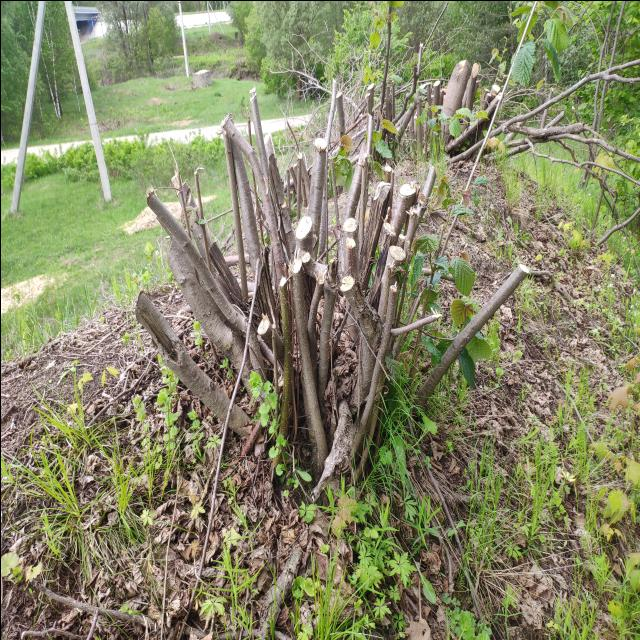restos de madeira: (409, 260, 539, 410), (347, 242, 408, 460), (197, 262, 275, 416), (182, 388, 230, 632), (417, 448, 475, 604), (288, 255, 326, 480), (223, 118, 265, 299), (24, 579, 152, 633), (250, 540, 306, 639), (67, 303, 149, 357), (328, 88, 388, 158), (136, 292, 186, 358), (274, 96, 320, 166), (88, 368, 152, 418), (302, 133, 324, 271), (181, 208, 231, 264), (338, 153, 364, 253), (384, 182, 414, 244), (318, 147, 328, 260)
